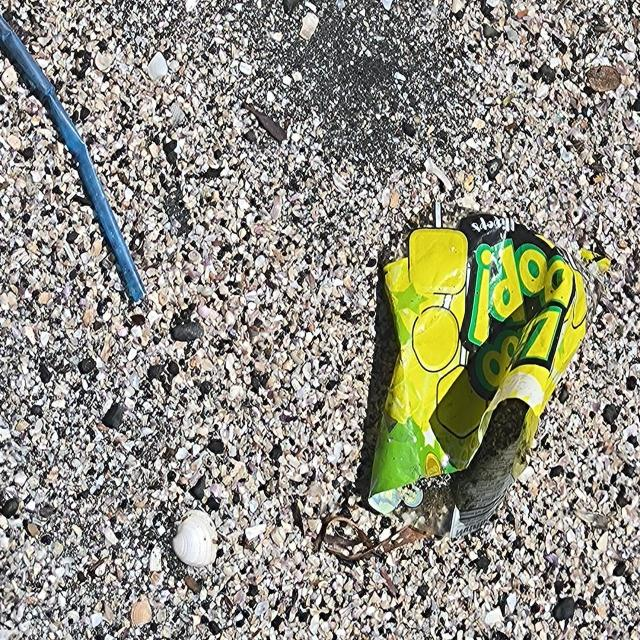plastic_waste: (370, 212, 612, 524), (0, 15, 145, 300)
